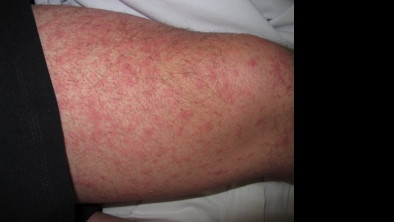SJS-TEN: (22, 8, 301, 217)
